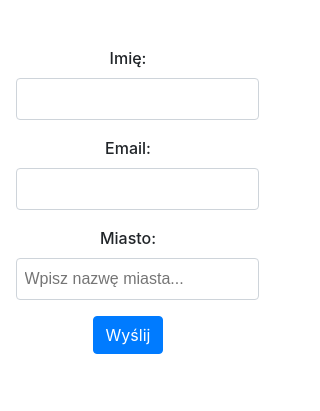
Form › displays validation errors when form is submitted empty
Click the button "Wyślij": coordinates (128, 335) [93,316,163,354]
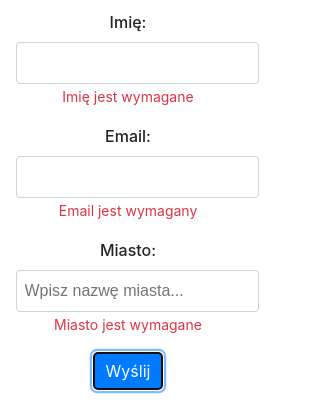
Check: the text "Imię jest wymagane" is shown, box [62,88,194,105]
Check: the text "Email jest wymagany" is shown, box [59,202,197,219]
Check: the text "Miasto jest wymagane" is shown, box [54,316,202,333]
